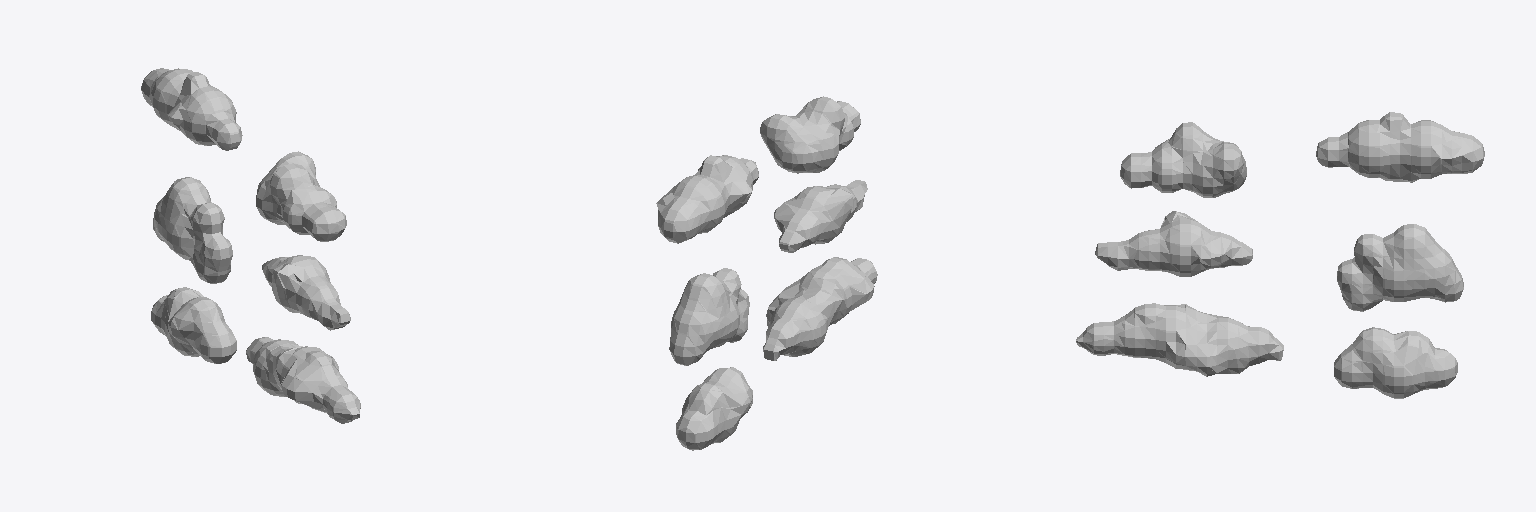
File: Clouds-bl.obj
The picture shows the model from 3 angles: view 1: azimuth 30°, elevation 25°; view 2: azimuth 150°, elevation 25°; view 3: azimuth 270°, elevation 25°; orthographic projection.
Parts seen in each view (by area): view 1: Cloud2; view 2: Cloud2; view 3: Cloud2.
Part boxes in pixels (bbox=[...]): Cloud2: bbox=[141, 68, 360, 423]; Cloud2: bbox=[656, 96, 877, 450]; Cloud2: bbox=[1076, 112, 1484, 398].
Size of the model in its own units: 3.32 by 12.04 by 15.88.